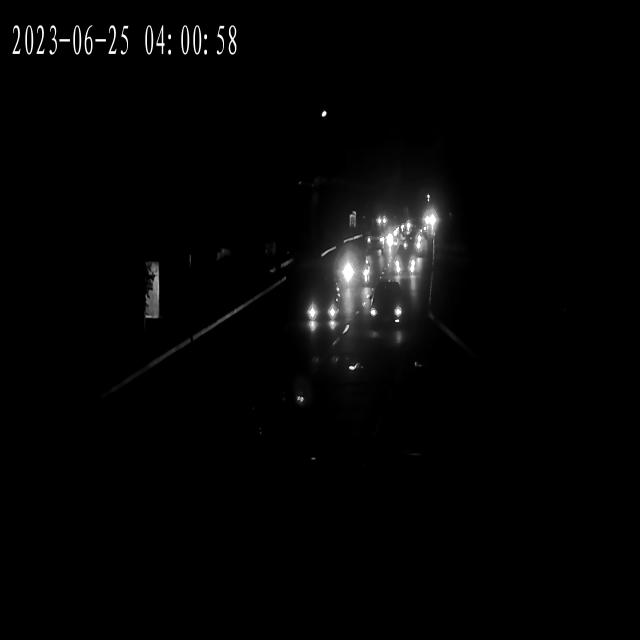Car: (335, 254, 376, 292), (366, 290, 404, 326), (303, 292, 342, 326), (394, 255, 421, 280), (390, 252, 418, 276), (362, 228, 389, 252), (400, 232, 428, 255), (375, 214, 390, 226)
